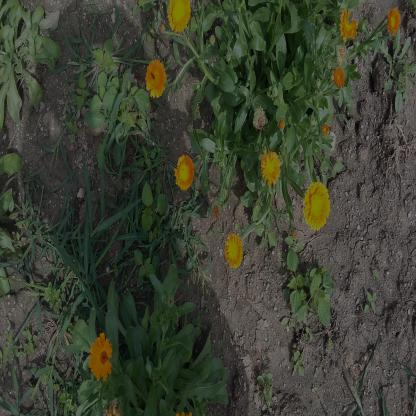marigold: (302, 180, 330, 231), (88, 332, 116, 380), (145, 59, 167, 98), (260, 146, 281, 186), (173, 153, 194, 192), (167, 0, 191, 34), (223, 233, 244, 268), (339, 4, 358, 41), (386, 6, 402, 36)
